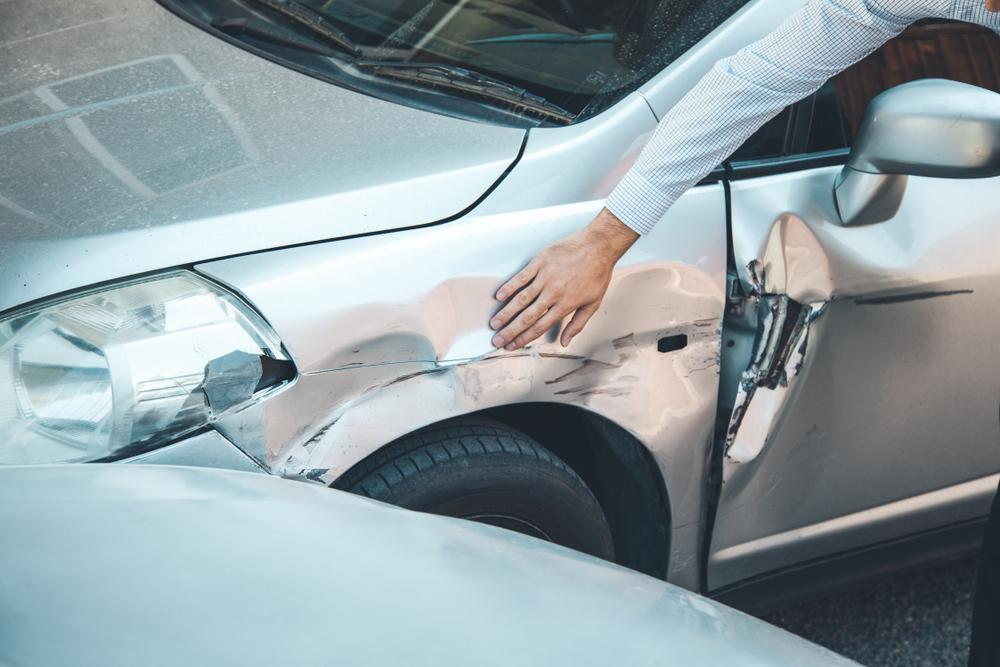dent: (254, 278, 535, 479), (720, 211, 930, 471), (577, 262, 722, 430)
